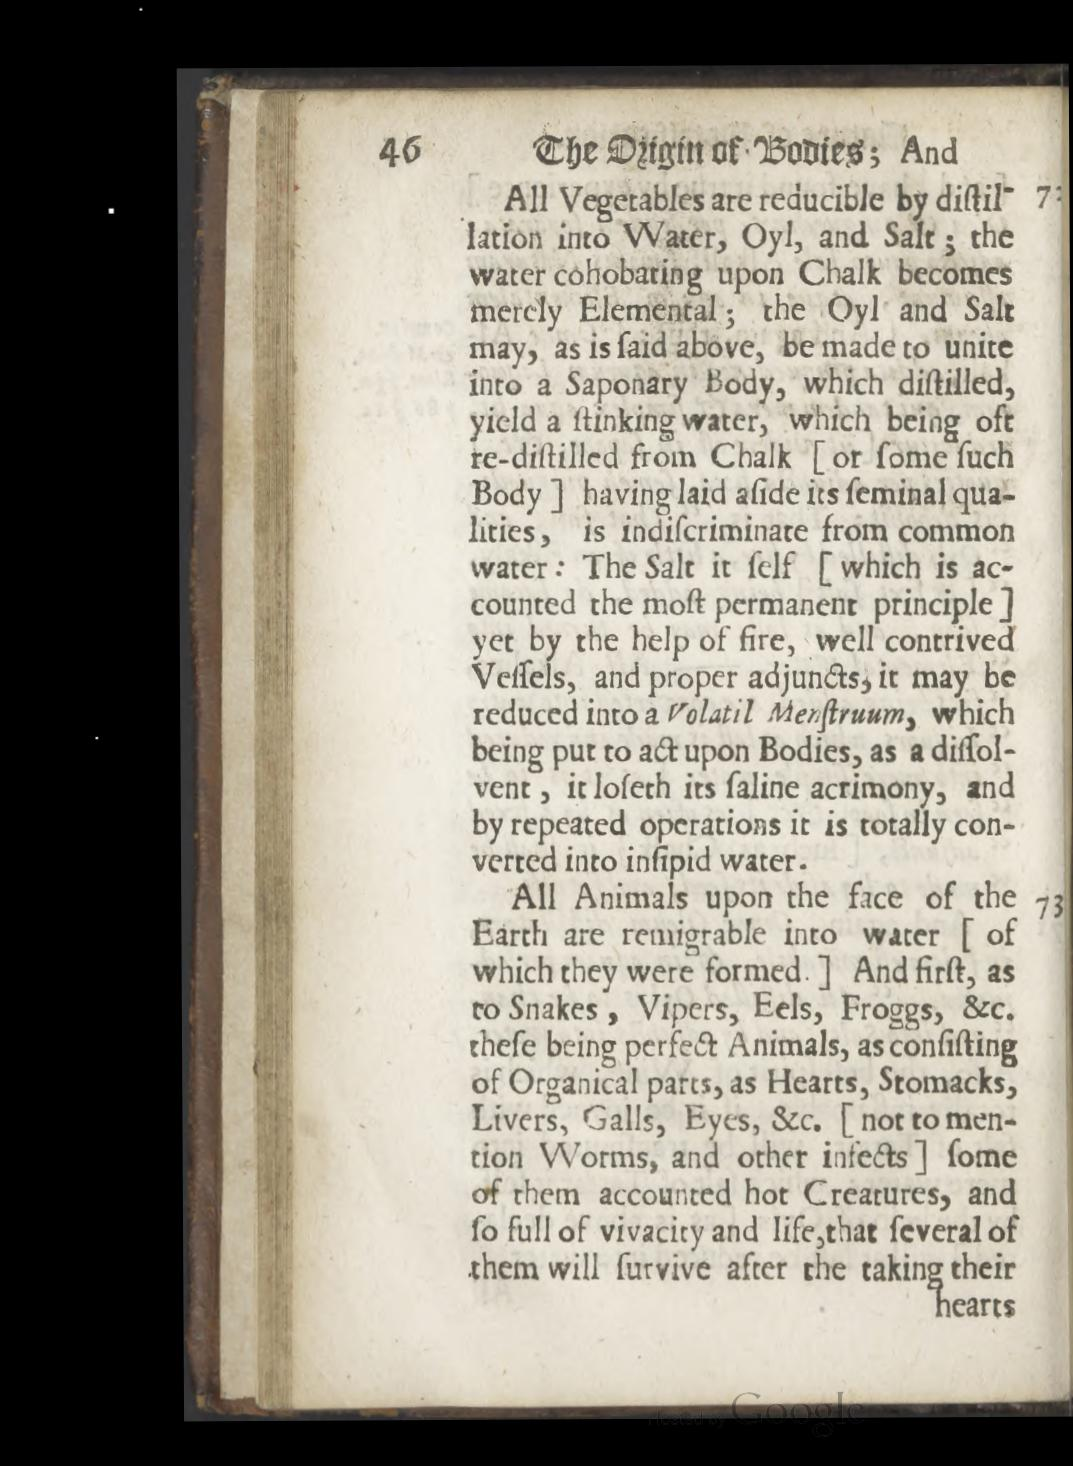catchword: (928, 1282, 1024, 1321)
full_p: (462, 178, 1020, 872)
header: (530, 124, 964, 174)
page_num: (380, 132, 426, 172)
print_marg: (1026, 176, 1068, 216), (1027, 888, 1068, 922)
top_p: (464, 874, 1024, 1284)
